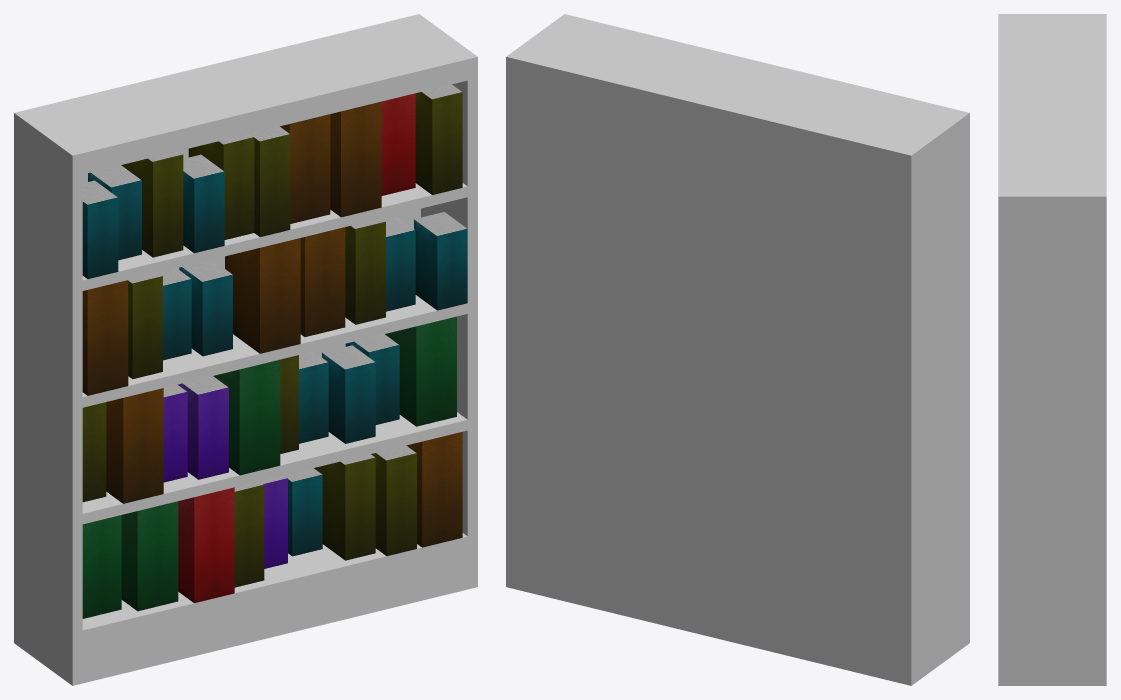
Rendered from Bookcase_1-3.fbx.
The picture shows the model from 3 angles, left to right: view 1: azimuth 30°, elevation 25°; view 2: azimuth 150°, elevation 25°; view 3: azimuth 270°, elevation 25°; orthographic projection. The views are drawn at different scales.
Parts seen in each view (by area): view 1: Bookcase_1-3, Bookcase_1-3_Books-4, Bookcase_1-3_Books-1, Bookcase_1-3_Books-3, Bookcase_1-3_Books-2; view 2: Bookcase_1-3; view 3: Bookcase_1-3.
Boxes of the visible parts, box(x1,y1,x2,y2) form: Bookcase_1-3: box(14, 14, 477, 685); Bookcase_1-3_Books-4: box(82, 84, 462, 278); Bookcase_1-3_Books-1: box(82, 432, 462, 618); Bookcase_1-3_Books-3: box(82, 212, 467, 395); Bookcase_1-3_Books-2: box(82, 316, 456, 503); Bookcase_1-3: box(506, 14, 969, 685); Bookcase_1-3: box(998, 14, 1106, 685).
Size of the model in its own units: 400 by 500 by 100.
2 materials, 1 textured.
